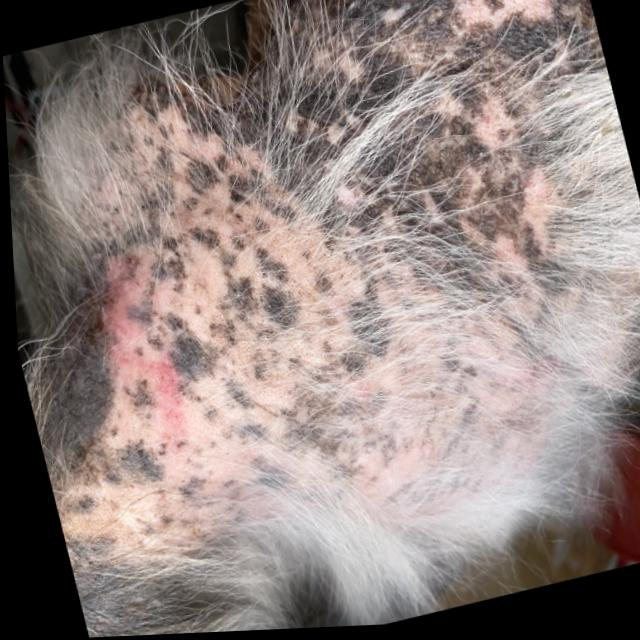demodicosis: (44, 86, 449, 578), (348, 0, 589, 270)
